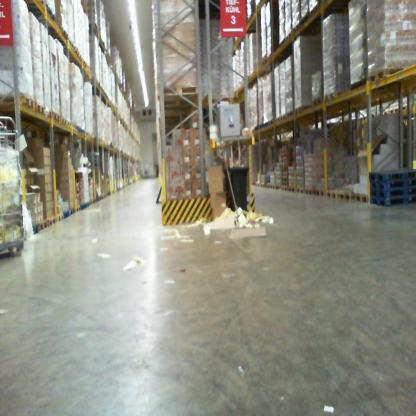pallets: (25, 184, 131, 247), (252, 178, 368, 206), (9, 92, 76, 130), (368, 168, 415, 208)
